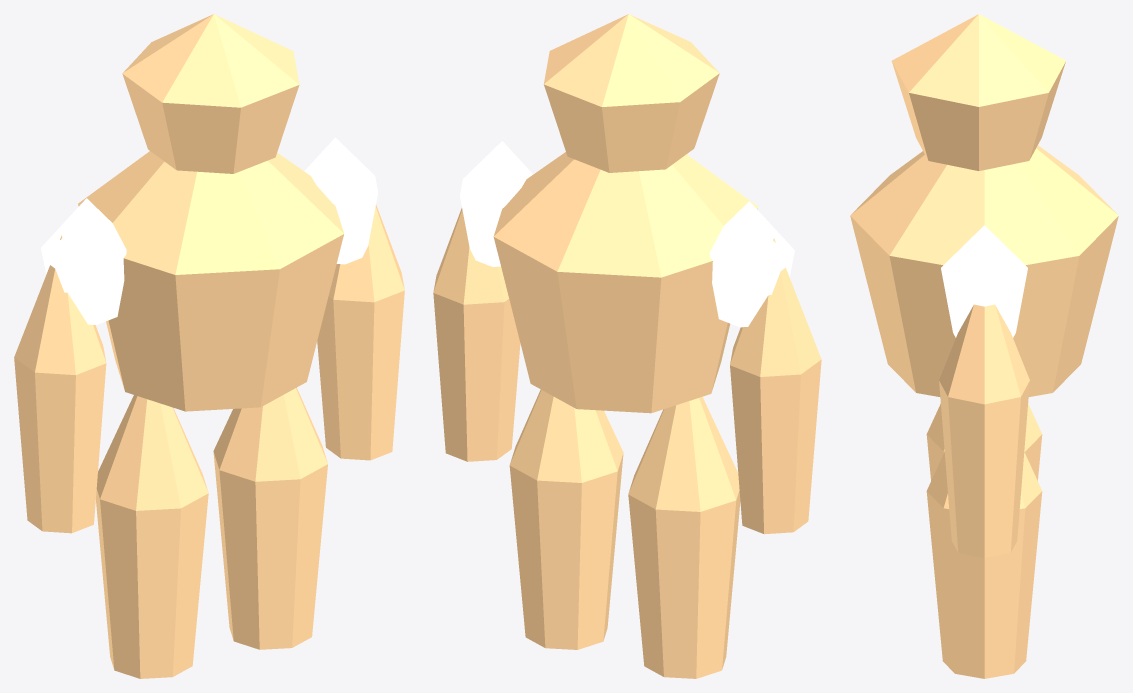
The model's file is deep-fracture-creature-StoneSentinel-earth.glb.
3 renders of one model, left to right at view 1: azimuth 30°, elevation 25°; view 2: azimuth 150°, elevation 25°; view 3: azimuth 270°, elevation 25°, orthographic. The views are drawn at different scales.
Parts seen in each view (by area): view 1: chest-block, leg-left, leg-right, head-block, arm-left, arm-right, armor-core-left, armor-core-right; view 2: chest-block, leg-left, leg-right, head-block, arm-left, arm-right, armor-core-left, armor-core-right; view 3: chest-block, head-block, arm-right, leg-right, armor-core-right, leg-left.
Part boxes in pixels (x1,y1,x2,y2): chest-block: (78,151,343,411); leg-left: (96,395,208,678); leg-right: (213,387,327,649); head-block: (122,14,299,173); arm-left: (14,235,106,533); arm-right: (317,205,404,460); armor-core-left: (41,198,126,324); armor-core-right: (304,137,378,264); chest-block: (493,152,757,413); leg-left: (628,396,740,678); leg-right: (509,389,623,649); head-block: (543,14,719,172); arm-left: (730,238,821,534); arm-right: (433,208,520,461); armor-core-left: (709,201,794,327); armor-core-right: (460,141,532,266); chest-block: (850,145,1118,396); head-block: (891,14,1065,170); arm-right: (939,304,1029,558); leg-right: (926,452,1042,678); armor-core-right: (941,225,1027,337); leg-left: (926,403,1042,480).
Bounding box in the file's own units: 2.28 × 3.74 × 1.44.
